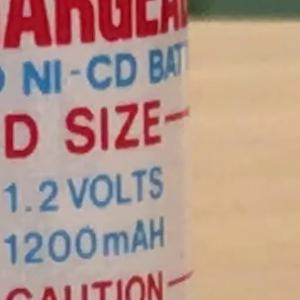NI-CD: (7, 43, 157, 127)
